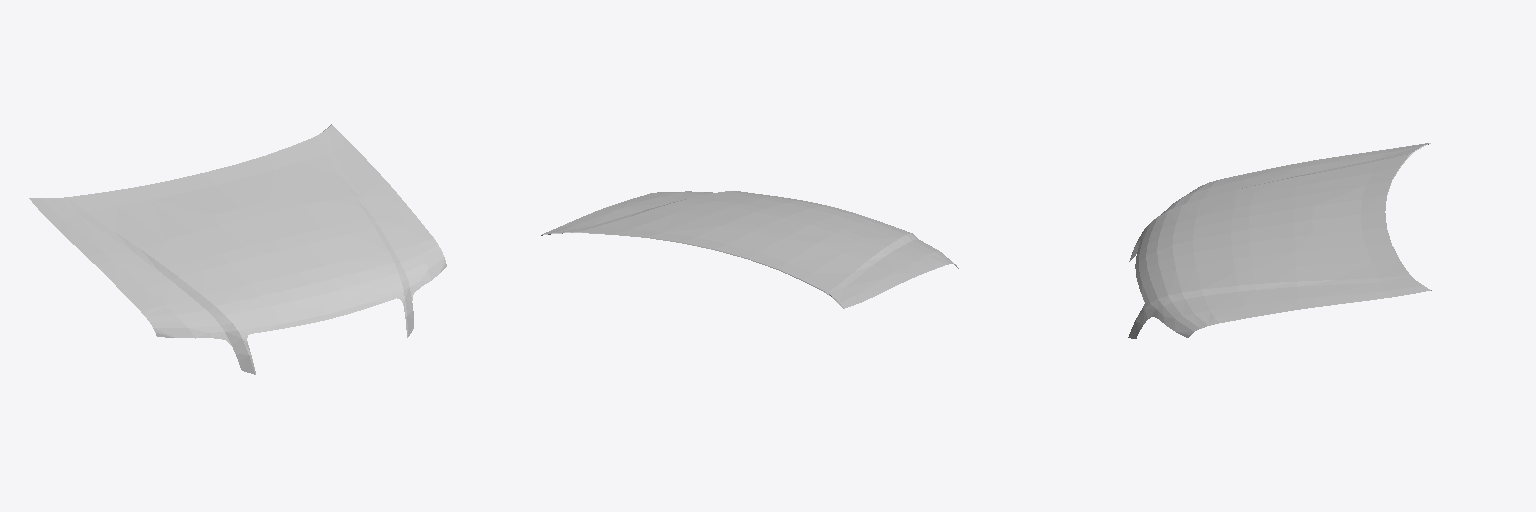
The model's file is audi_a5_sline_bonnet.obj.
3 views of the same model, side by side, from view 1: azimuth 30°, elevation 25°; view 2: azimuth 150°, elevation 25°; view 3: azimuth 270°, elevation 25° (orthographic).
Parts seen in each view (by area): view 1: pasted__polySurface5 pasted__body pasted__Audi group; view 2: pasted__polySurface5 pasted__body pasted__Audi group; view 3: pasted__polySurface5 pasted__body pasted__Audi group.
Part boxes in pixels (x1,y1,x2,y2): pasted__polySurface5 pasted__body pasted__Audi group: (29,124,446,374); pasted__polySurface5 pasted__body pasted__Audi group: (541,191,958,308); pasted__polySurface5 pasted__body pasted__Audi group: (1128,143,1431,338).
Size of the model in its own units: 3.56 by 0.9991 by 3.07.